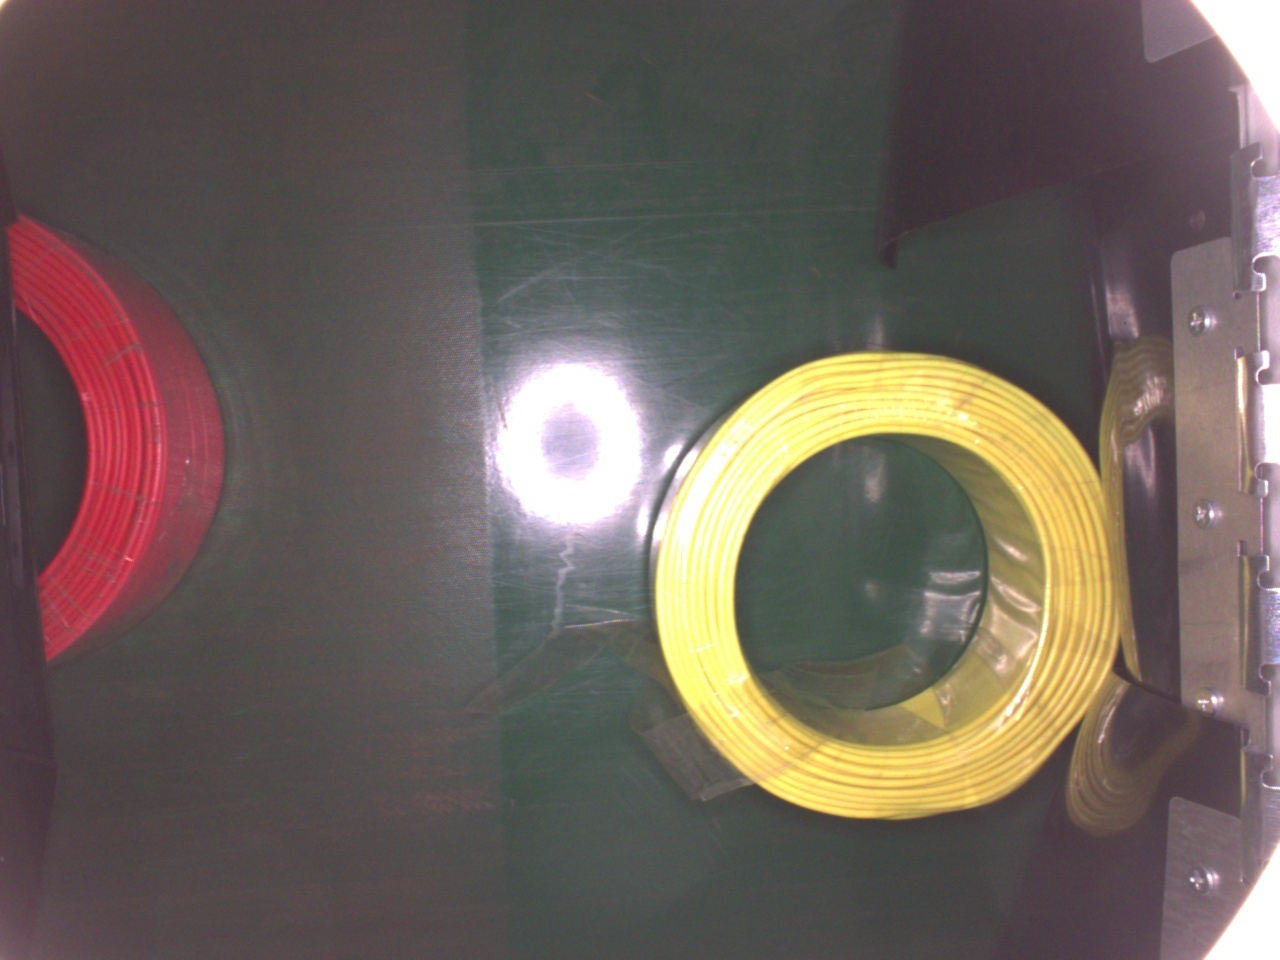red: (0, 195, 229, 668)
yellow: (640, 352, 1113, 824)
